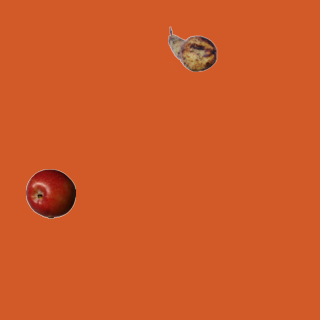Apple Braeburn: (25, 168, 75, 218)
Pear Abate: (167, 24, 217, 74)
